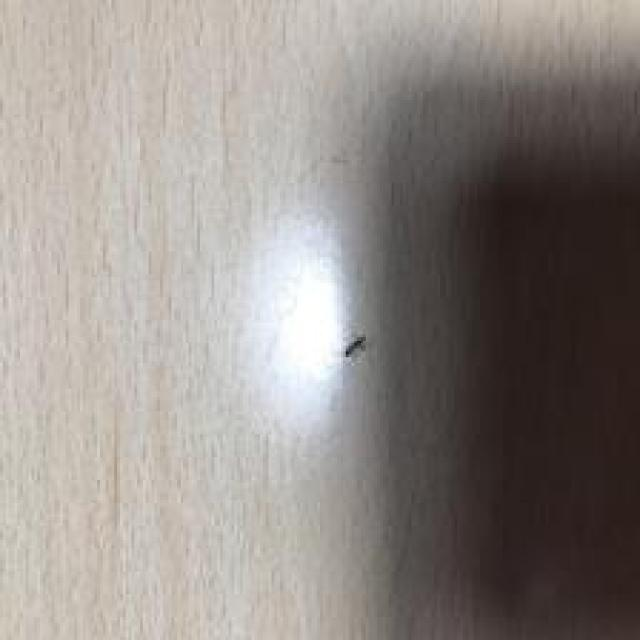Culex: (343, 334, 366, 360)
